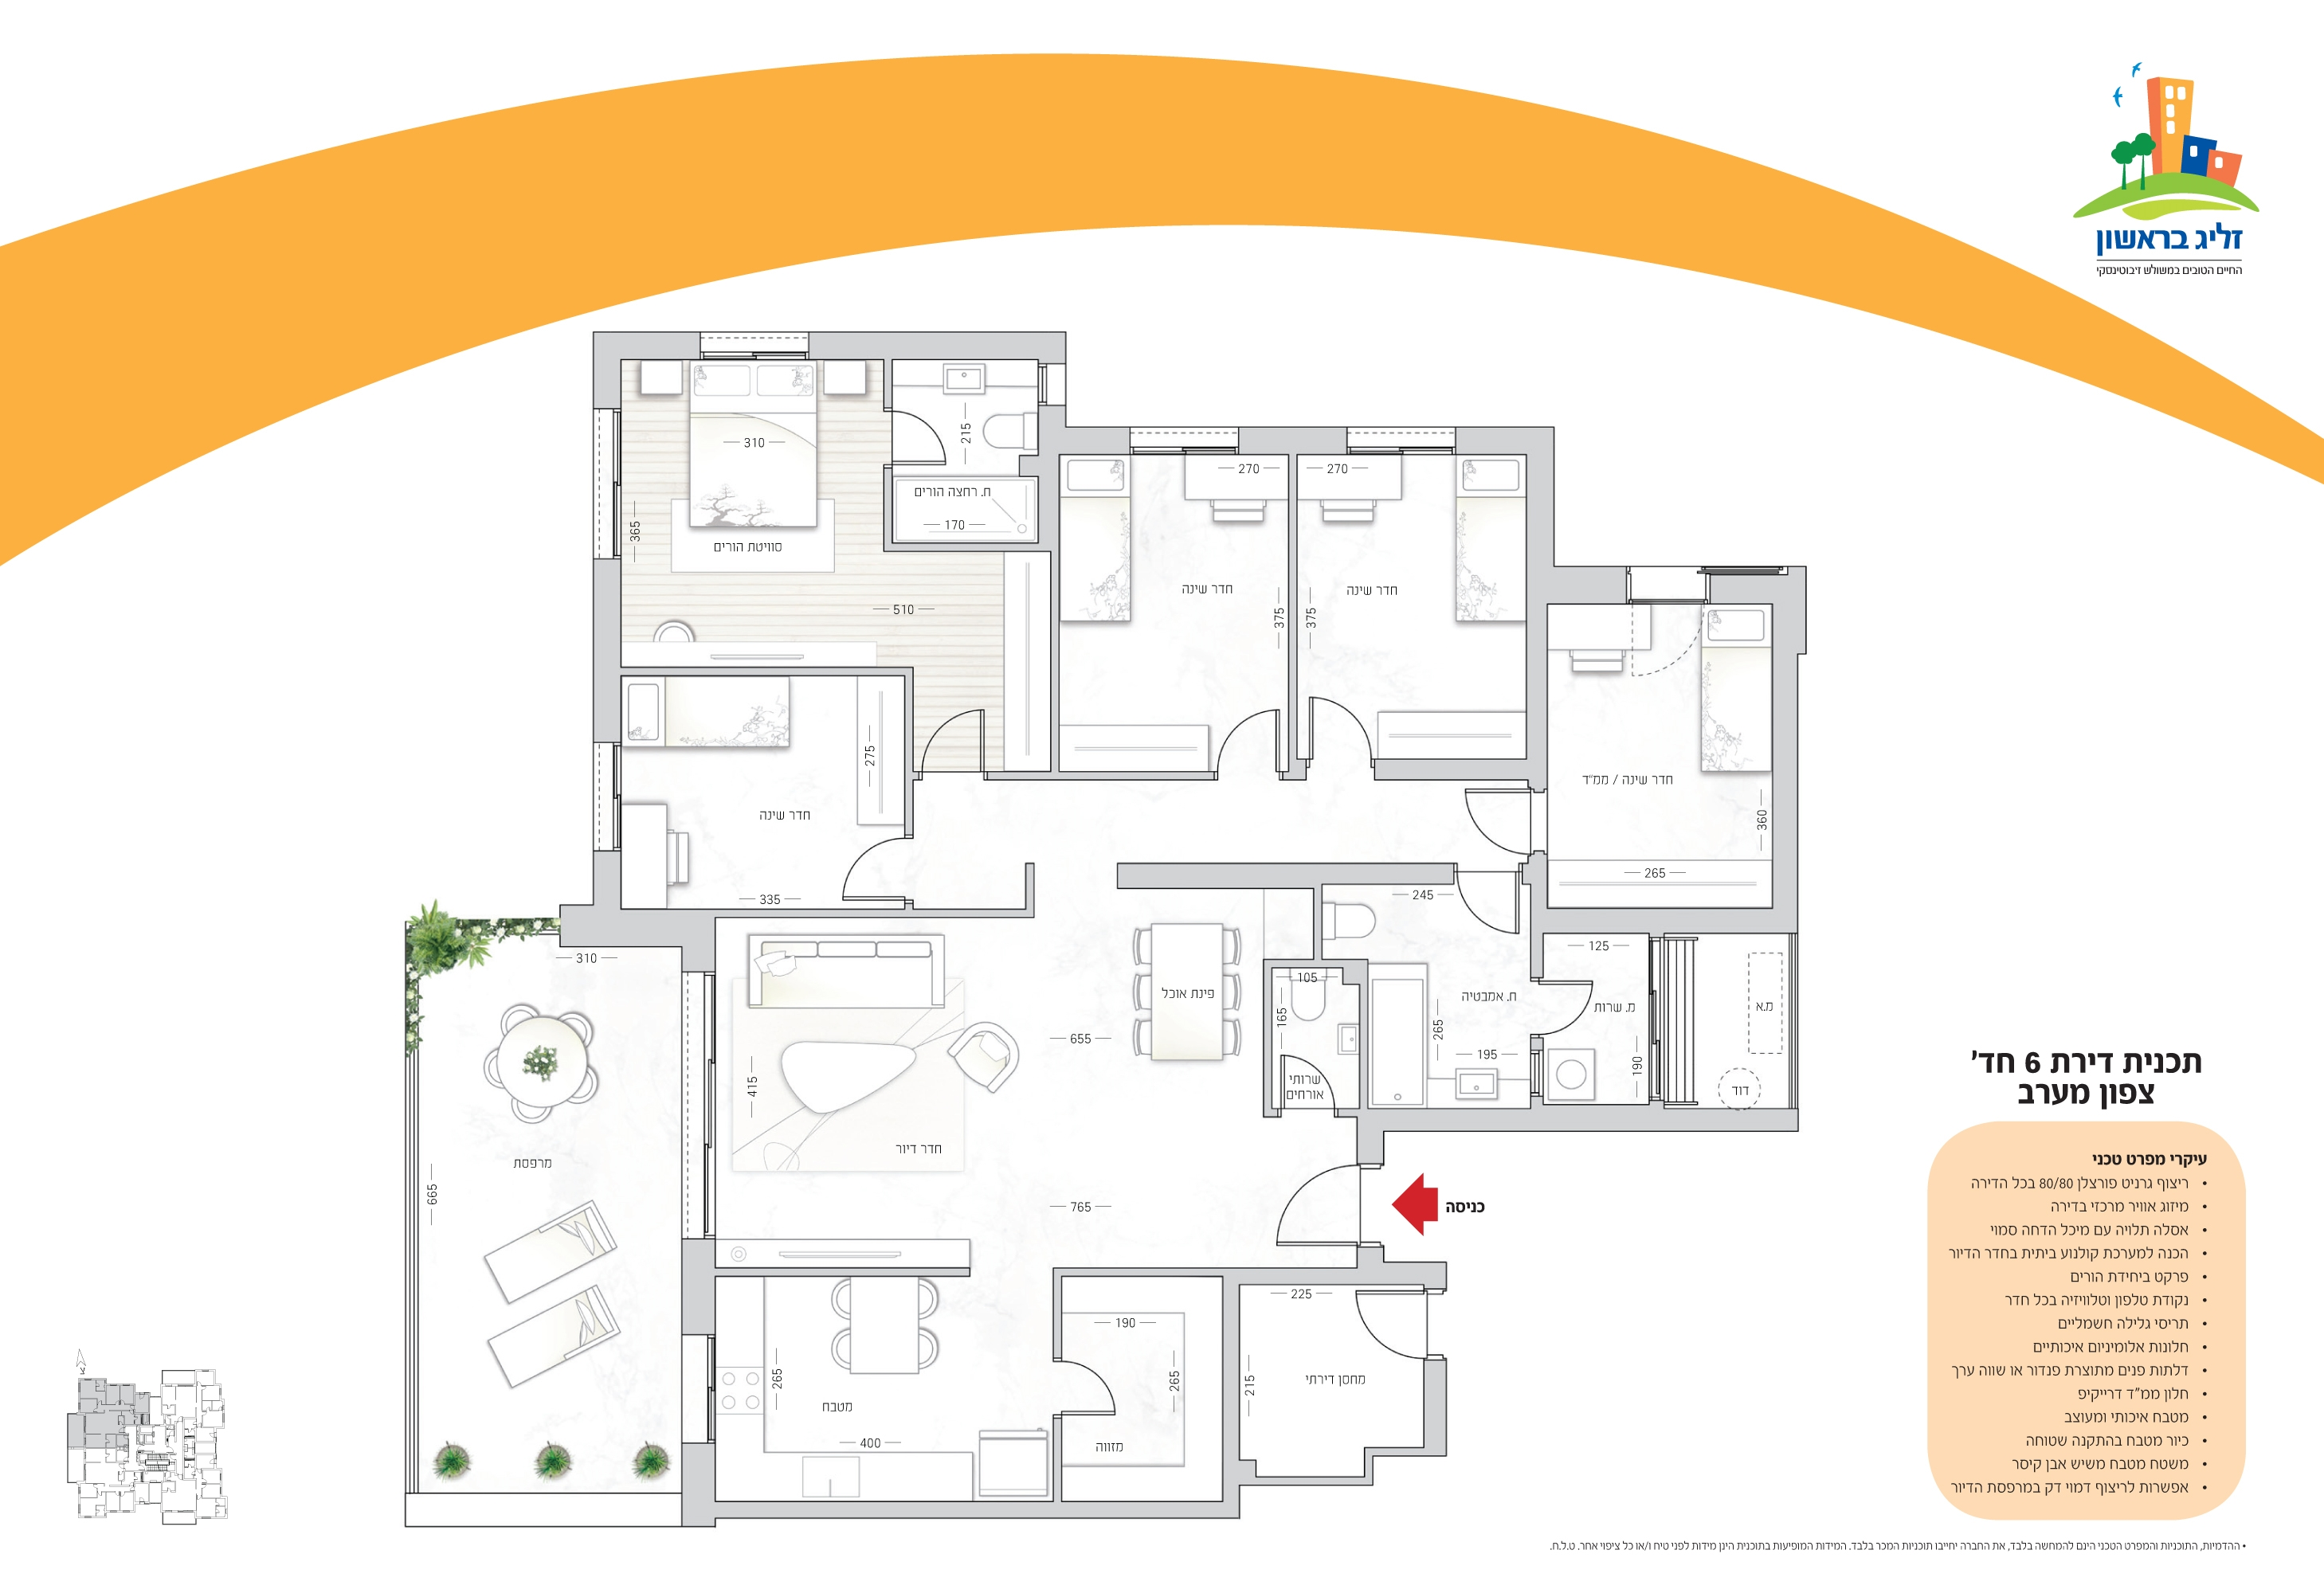door: (1323, 1287, 1413, 1367), (832, 837, 909, 908), (920, 696, 1000, 763), (1300, 680, 1372, 752), (1070, 1353, 1128, 1427), (899, 397, 954, 468), (1219, 706, 1280, 768), (1558, 961, 1603, 1044)
wall: (809, 334, 1060, 360), (595, 562, 623, 744), (1037, 456, 1060, 549), (888, 540, 1060, 553), (1051, 555, 1060, 781), (987, 774, 1213, 781), (1038, 406, 1067, 454), (885, 468, 892, 551)
window: (1130, 445, 1183, 463), (613, 486, 622, 560), (1187, 449, 1240, 461), (615, 410, 622, 486), (613, 745, 623, 795), (615, 796, 620, 851)
